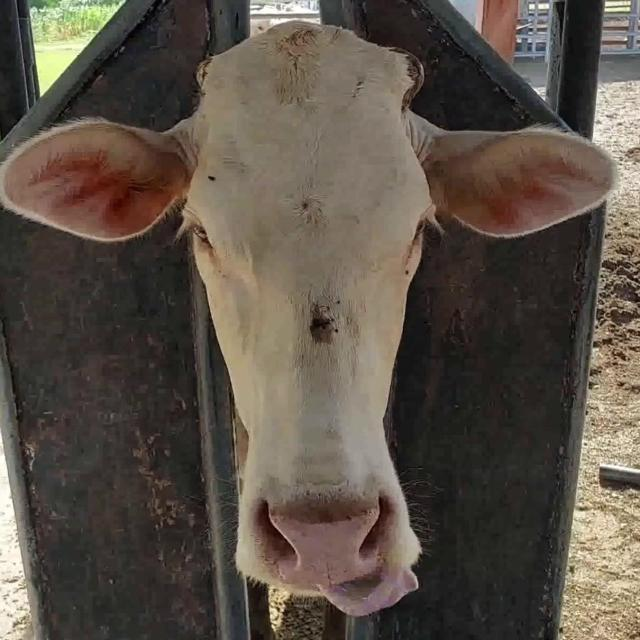cowFace: (178, 19, 434, 588)
